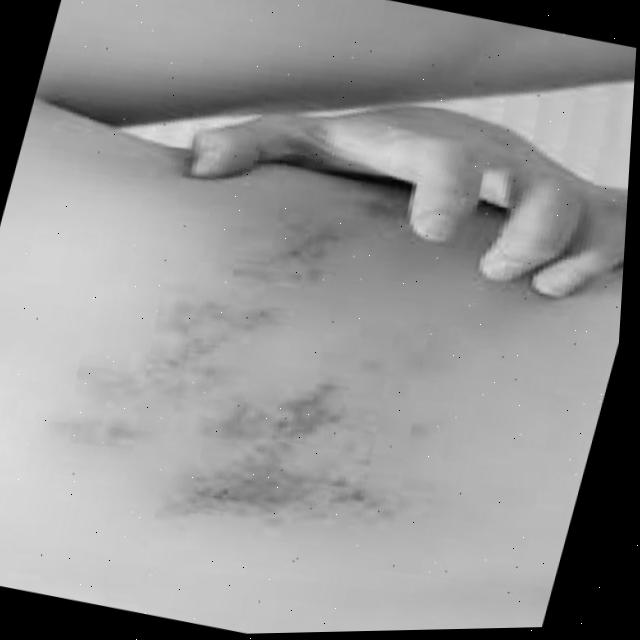Shingles: (27, 134, 482, 566)
